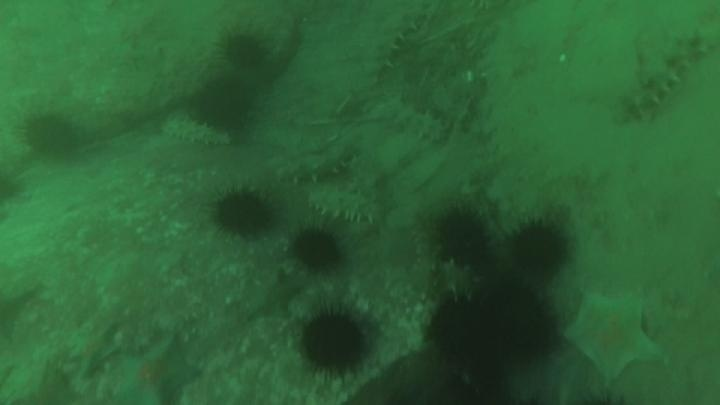echinus: (476, 283, 557, 363), (427, 294, 506, 367), (297, 307, 372, 379), (506, 218, 572, 277), (432, 205, 493, 267), (210, 185, 277, 240), (192, 76, 256, 133), (22, 111, 81, 160), (289, 226, 344, 273), (219, 30, 269, 71), (1, 169, 27, 207)
holothurian: (619, 25, 717, 123), (363, 4, 431, 79), (369, 92, 450, 145), (272, 143, 361, 187), (305, 184, 382, 227), (115, 319, 203, 353), (421, 257, 482, 305), (159, 115, 233, 150)
starfish: (565, 289, 666, 385), (112, 335, 202, 405), (242, 269, 303, 321), (65, 323, 121, 378)
